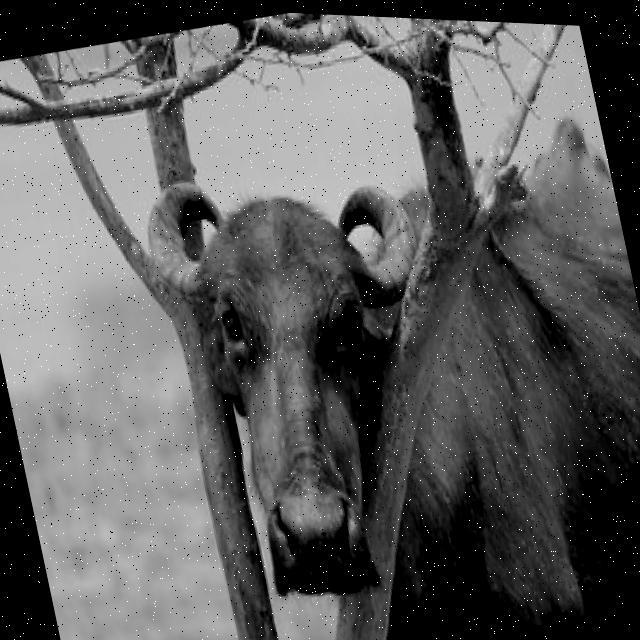Buffalo: (132, 83, 640, 640)
